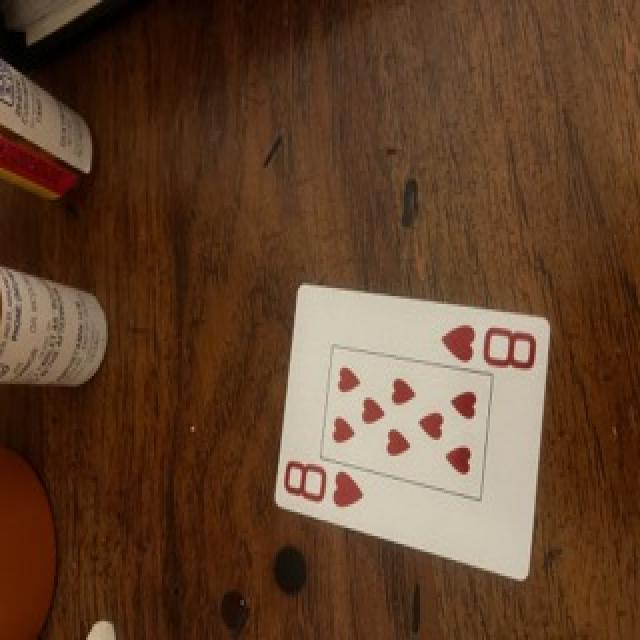8 of hearts: (278, 285, 549, 580)
